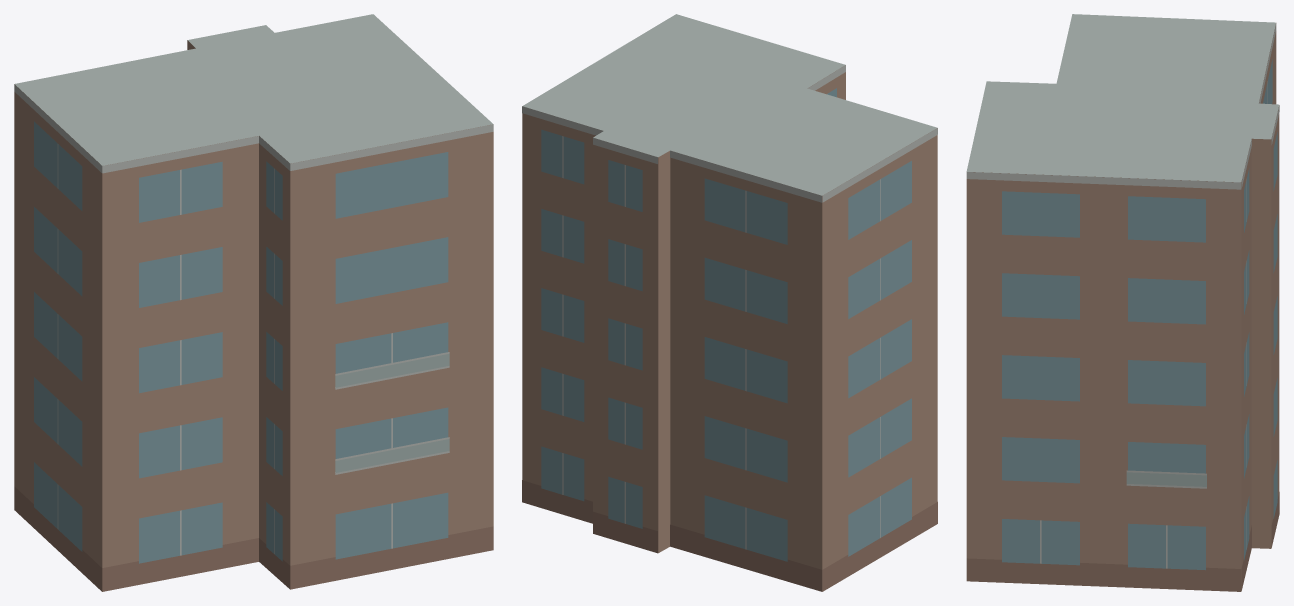
Rendered from survey-upis-32991680.glb.
The picture shows the model from 3 angles, left to right: view 1: azimuth 30°, elevation 25°; view 2: azimuth 150°, elevation 25°; view 3: azimuth 270°, elevation 25°; orthographic projection. The views are drawn at different scales.
Visible parts, largest first — view 1: survey-upis-32991680.tmp; view 2: survey-upis-32991680.tmp; view 3: survey-upis-32991680.tmp.
Part boxes in pixels (x1=…): survey-upis-32991680.tmp: x1=14, y1=14, x2=493, y2=591; survey-upis-32991680.tmp: x1=522, y1=14, x2=937, y2=591; survey-upis-32991680.tmp: x1=966, y1=14, x2=1279, y2=591.
Size of the model in its own units: 12.15 by 13.76 by 9.54.
